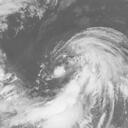cyclone: (44, 27, 115, 93)
